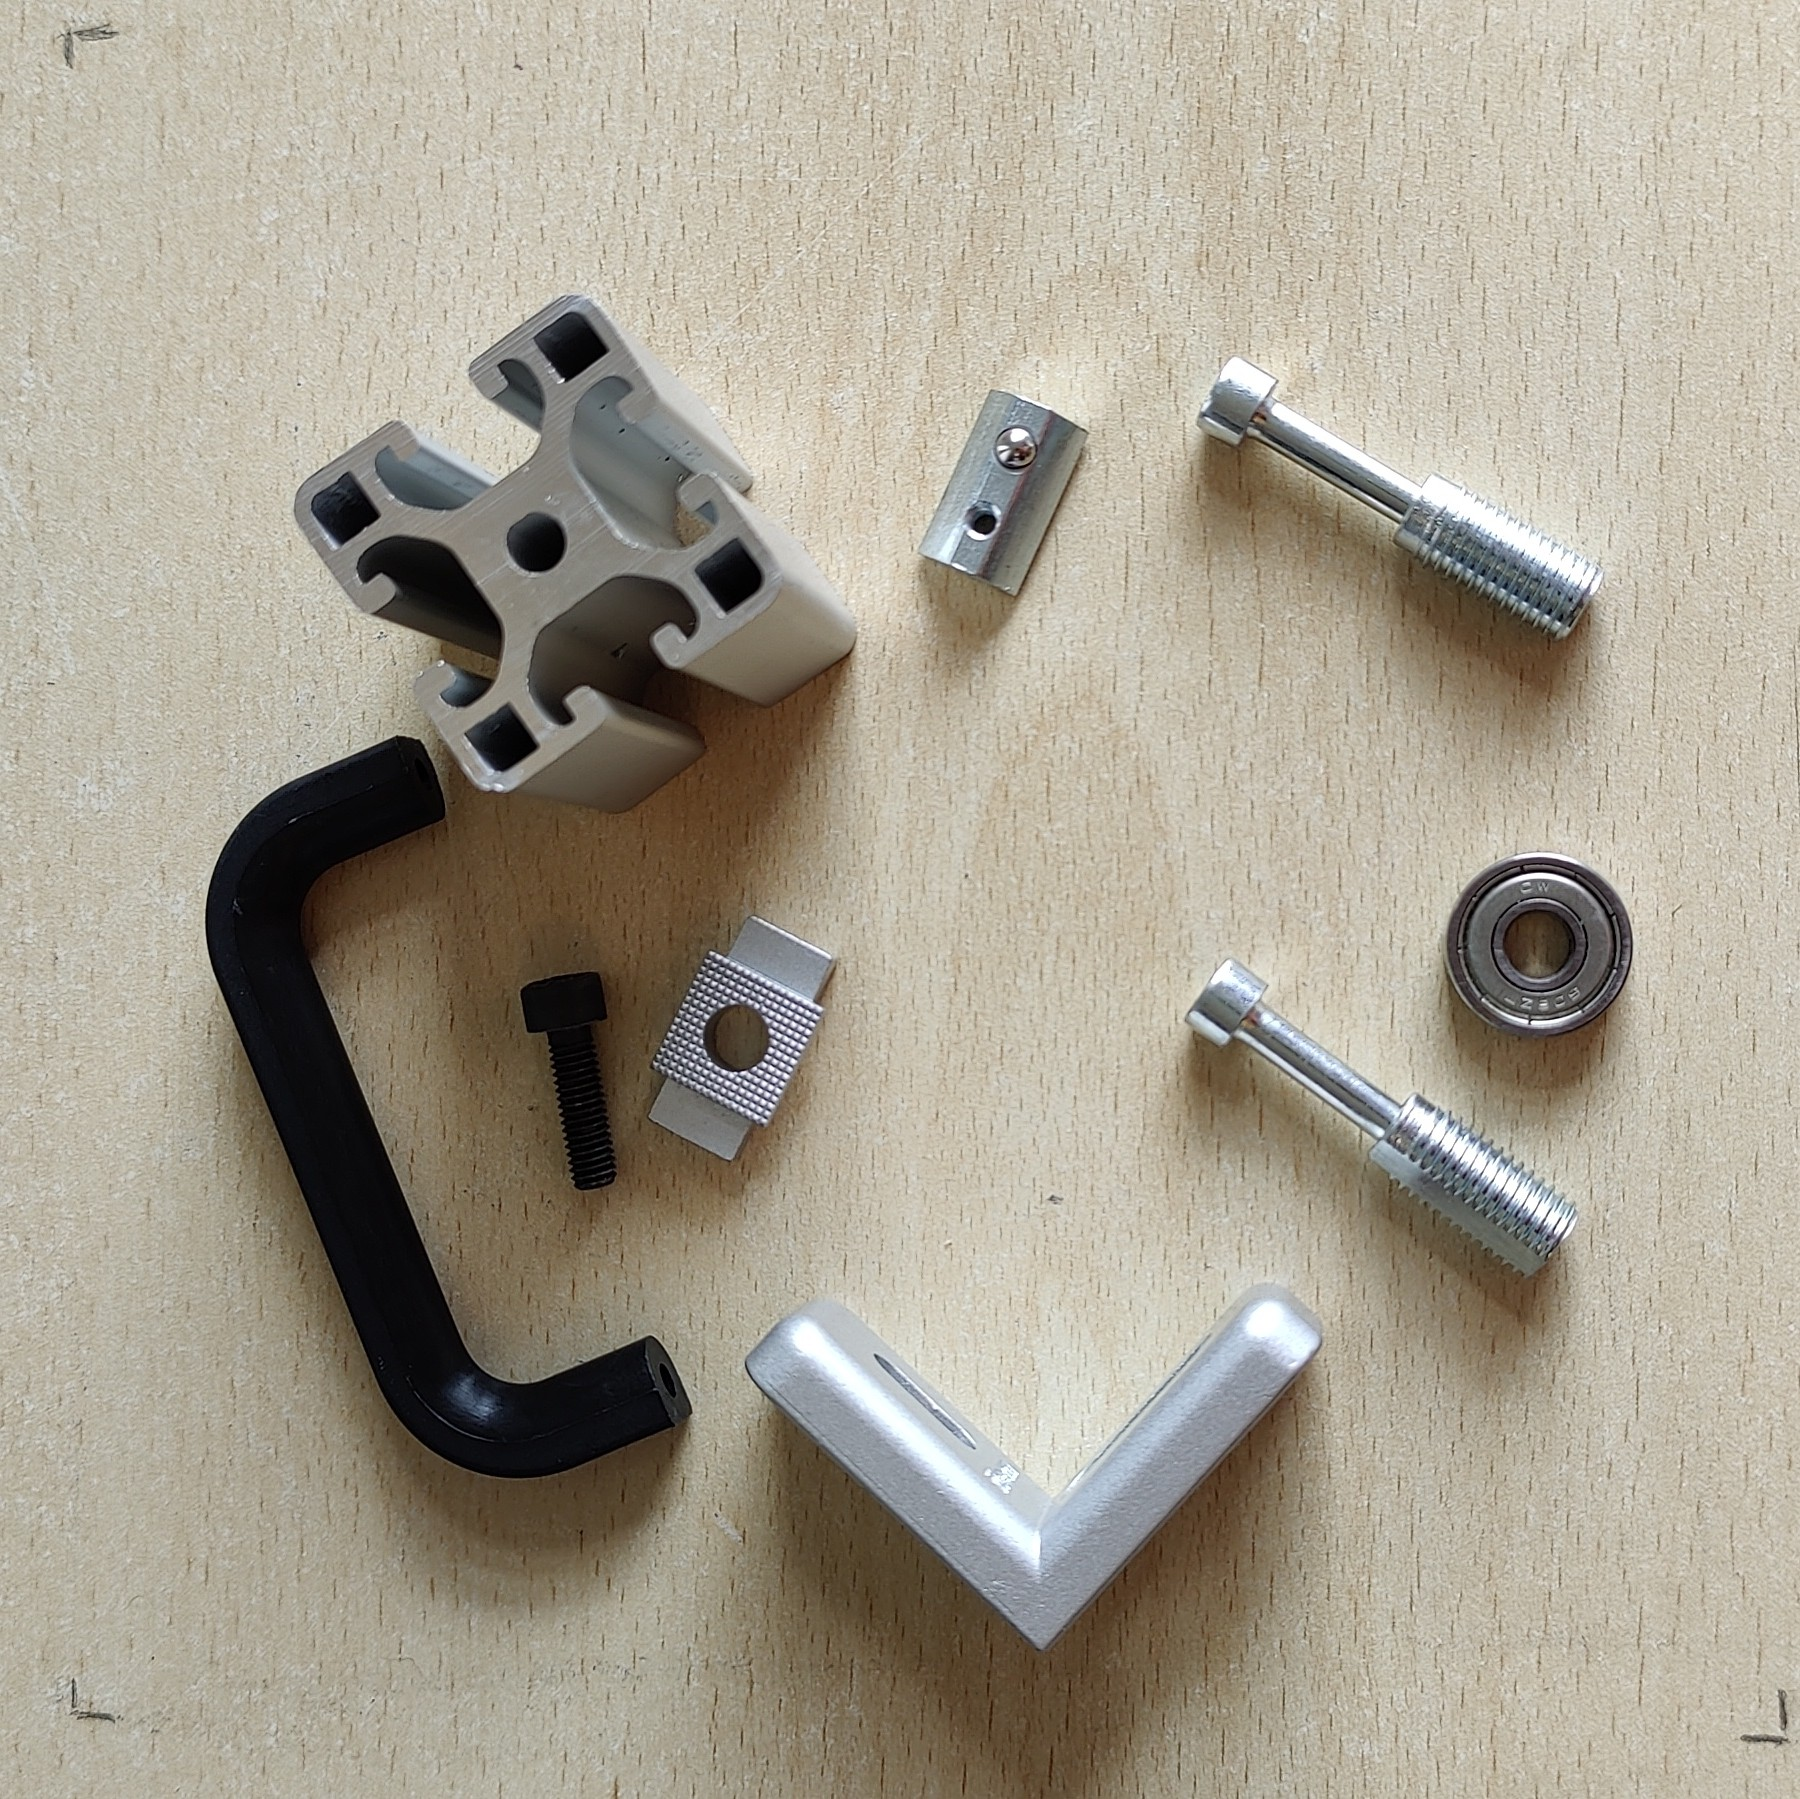Aluminium Extension: (291, 292, 860, 817)
Ball Bearing: (1439, 848, 1635, 1041)
Multiwinkel: (739, 1278, 1326, 1657)
Pull Handle: (204, 731, 697, 1481)
Shoulder Socket Head Cap Screw: (1182, 957, 1581, 1282), (1196, 353, 1609, 642)
Socket Head Cap Screw: (519, 967, 619, 1191)
T Nut Square: (644, 913, 843, 1166)
T Spring Nut: (916, 387, 1089, 601)
